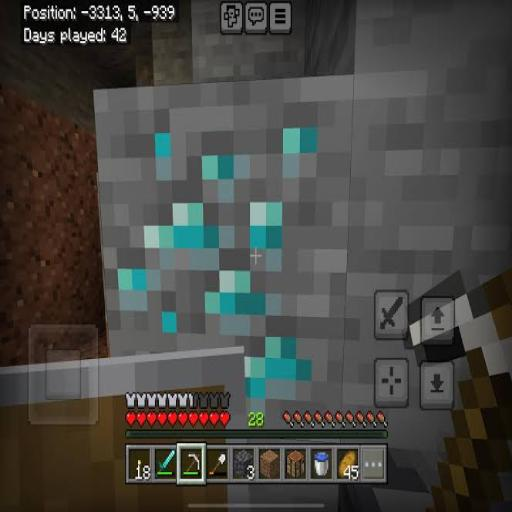diamond ore: (93, 87, 345, 425)
